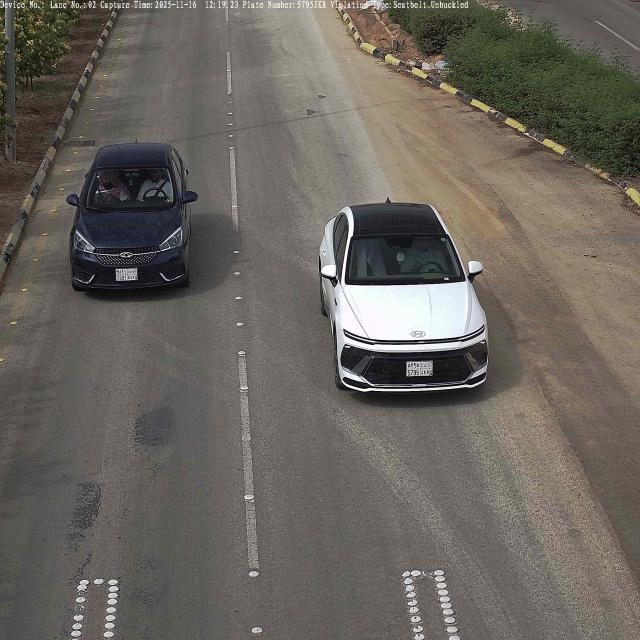person_with_seatbelt: (136, 167, 173, 202)
person_without_seatbelt: (402, 235, 449, 276)
